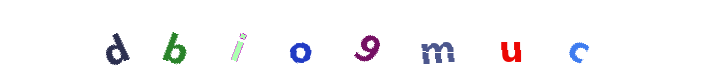9: (325, 0, 405, 80)
B: (134, 0, 214, 80)
C: (471, 0, 551, 80)
D: (77, 0, 157, 80)
I: (254, 0, 334, 80)
M: (346, 0, 426, 80)
O: (321, 0, 401, 80)
U: (368, 0, 448, 80)
